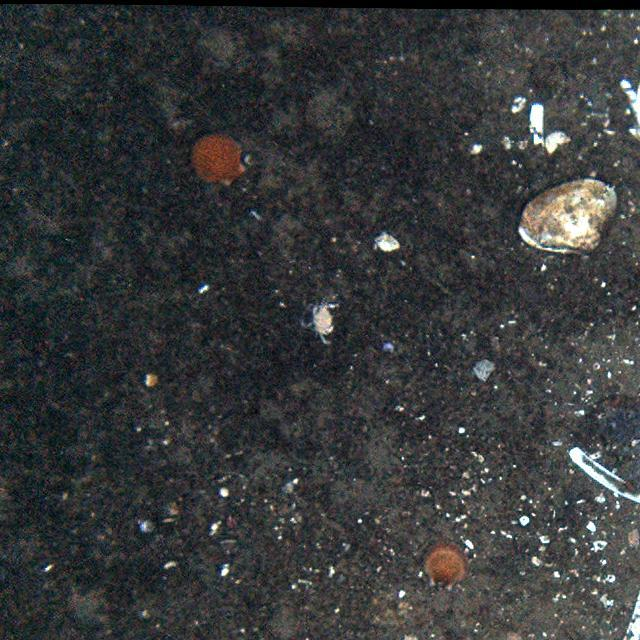crab: (302, 293, 342, 348)
